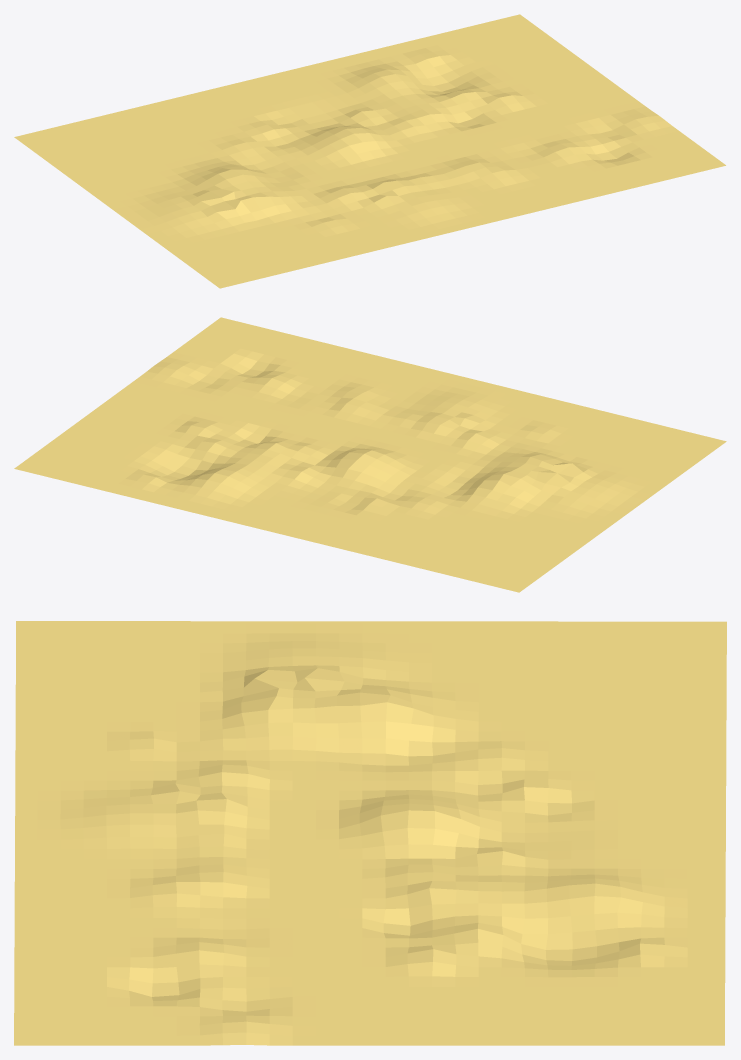
Rendered from Titanic_ground.glb.
The picture shows the model from 3 angles, top to bottom: view 1: azimuth 30°, elevation 25°; view 2: azimuth 150°, elevation 25°; view 3: azimuth 270°, elevation 25°; orthographic projection. The views are drawn at different scales.
Parts seen in each view (by area): view 1: Plane; view 2: Plane; view 3: Plane.
Part boxes in pixels (box(x1,y1,x2,y2)): Plane: box(14, 14, 725, 288); Plane: box(14, 317, 726, 592); Plane: box(14, 621, 726, 1045).
Size of the model in its own units: 416 by 14.62 by 295.
